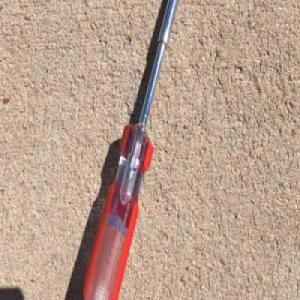Screwdriver: (80, 0, 180, 300)
